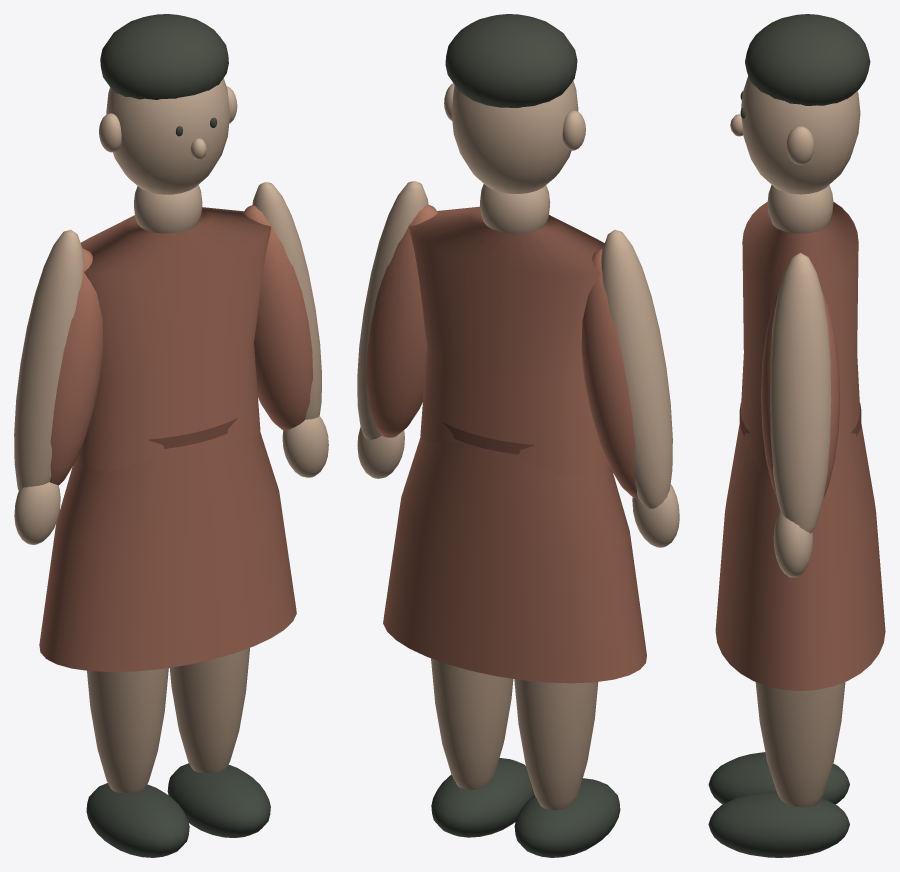
Rendered from look-5.glb.
3 views of the same model, side by side, from view 1: azimuth 30°, elevation 25°; view 2: azimuth 150°, elevation 25°; view 3: azimuth 270°, elevation 25° (orthographic). The views are drawn at different scales.
Bounding box in the file's own units: 0.7643 × 1.89 × 0.375.
